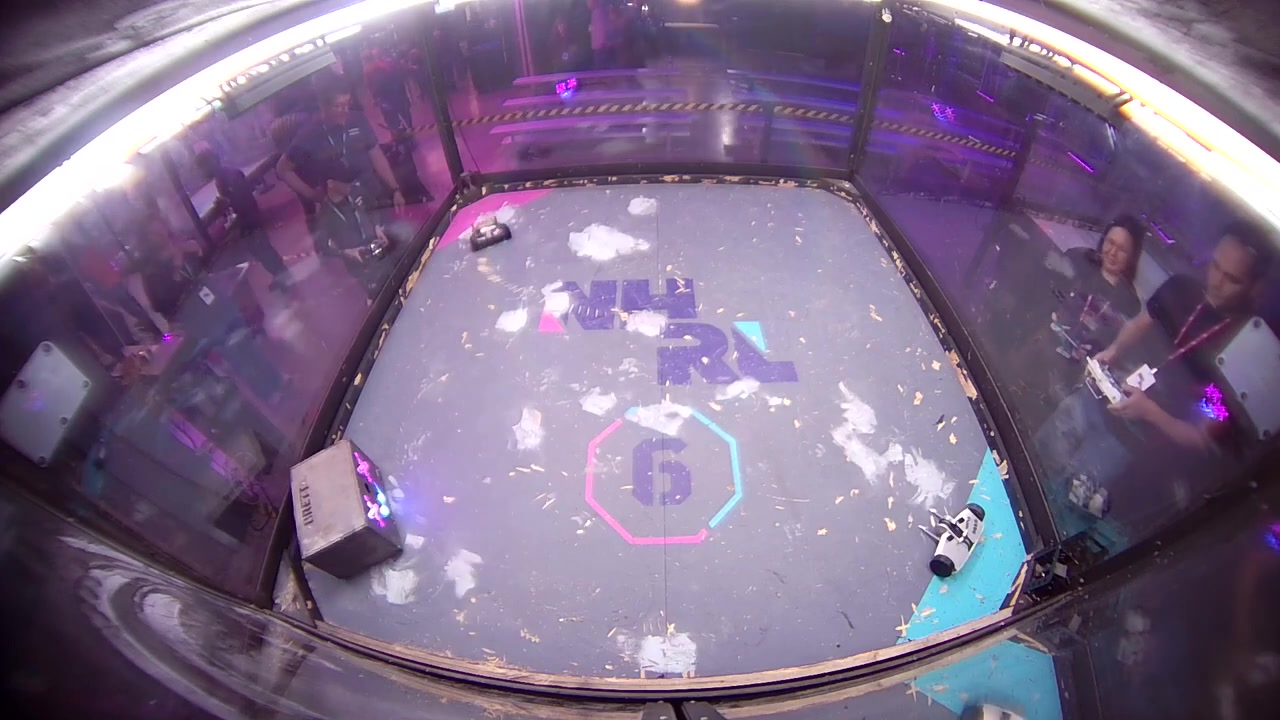combatbot: (930, 503, 985, 579), (468, 216, 512, 251)
housebot: (290, 436, 406, 579)
